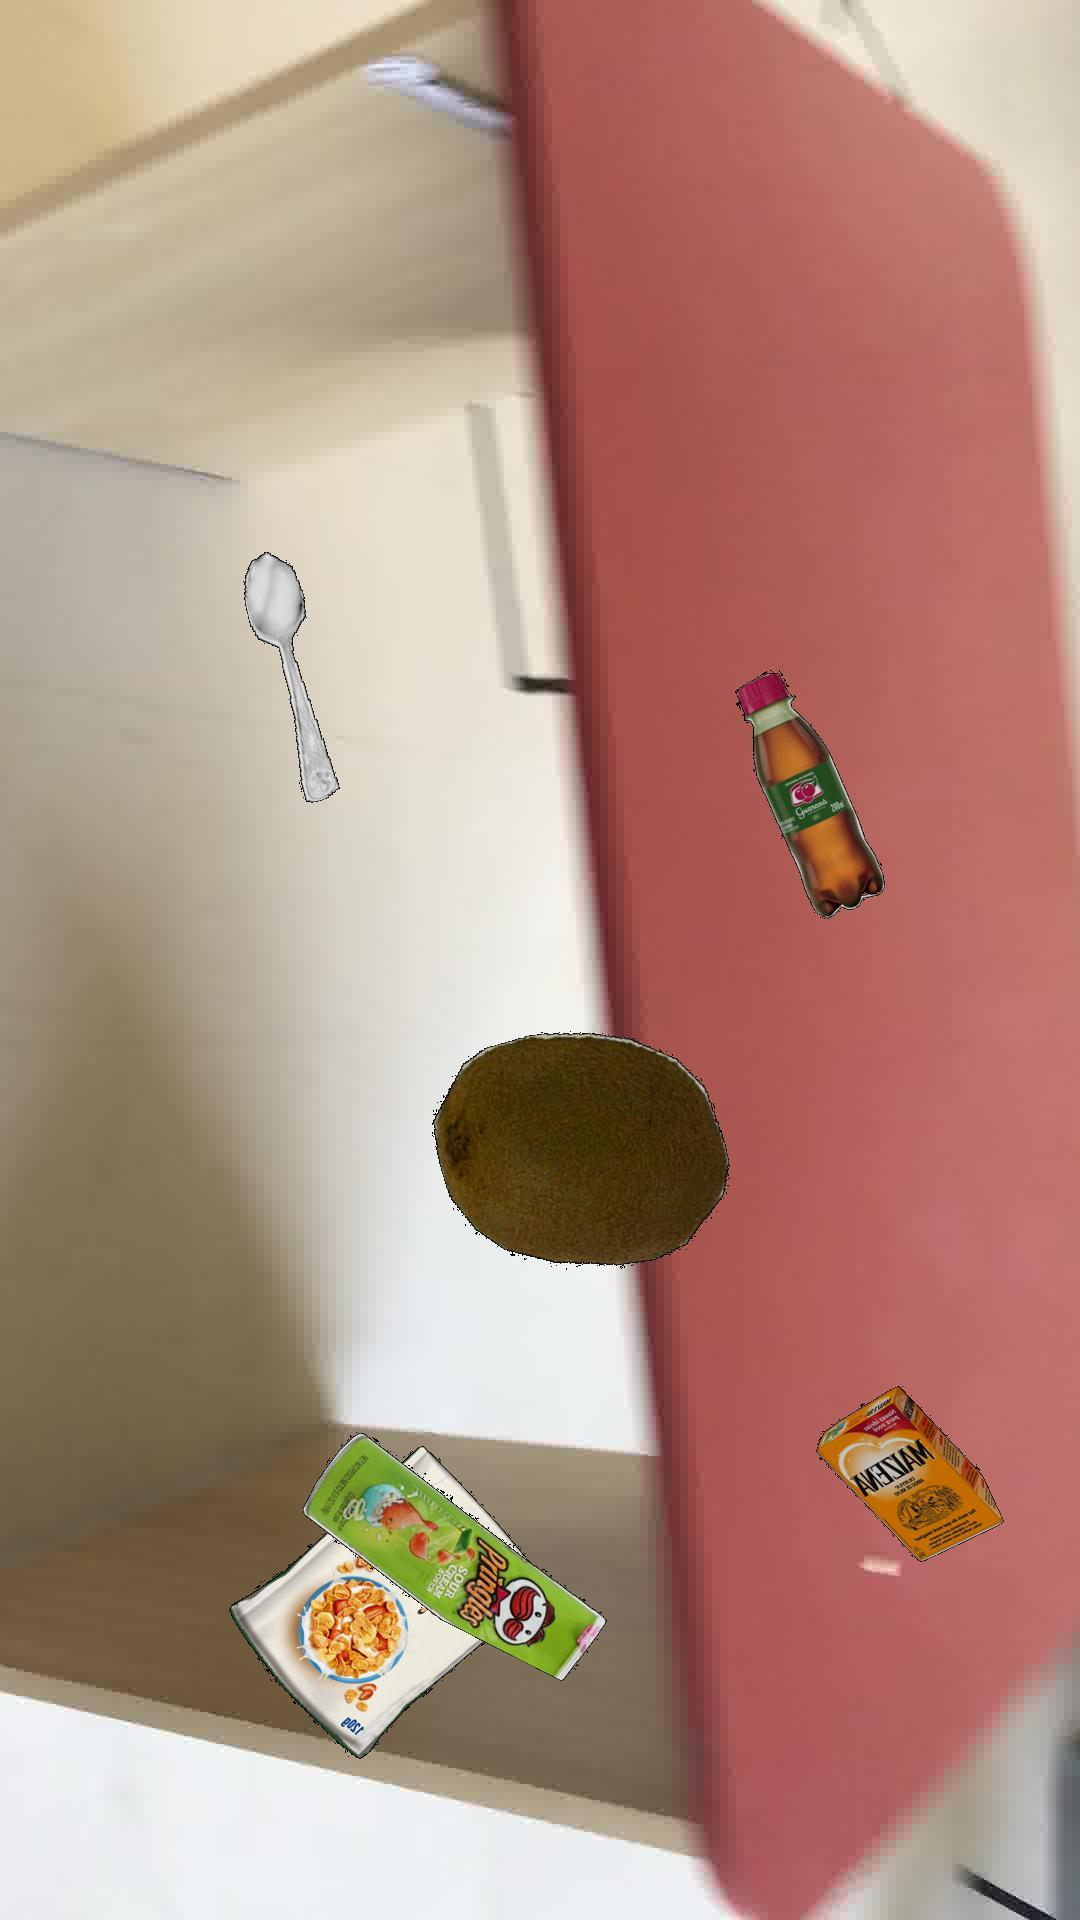corn flakes: (228, 1444, 521, 1758)
guarana: (733, 670, 884, 918)
kiwi: (430, 1031, 728, 1265)
pringles: (302, 1432, 605, 1680)
spoon: (243, 550, 339, 802)
